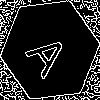A: (25, 25, 78, 81)
